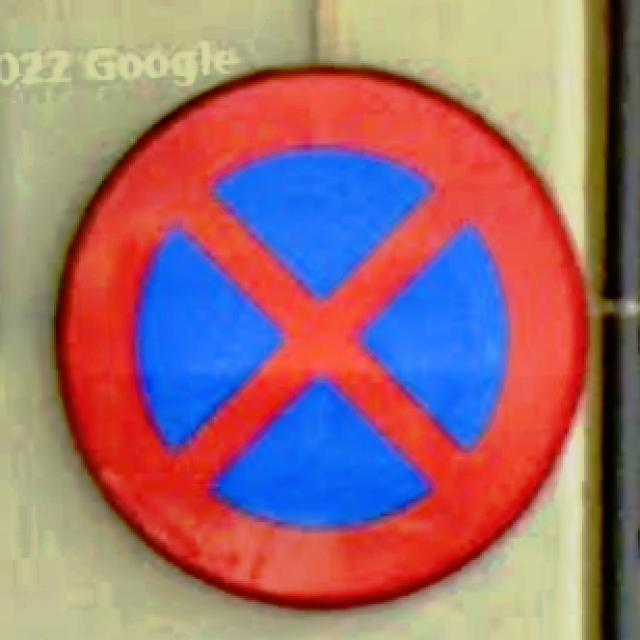nopark: (48, 67, 596, 615)
